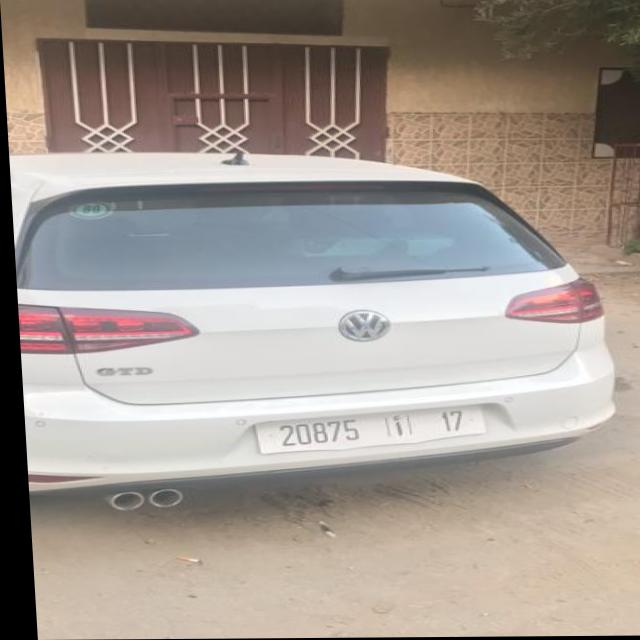License-Plate: (249, 407, 477, 454)
